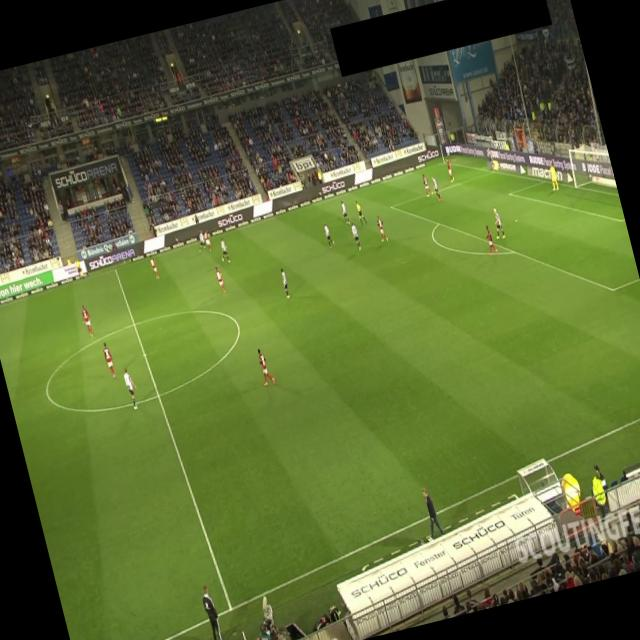goalkeeper: (546, 160, 560, 190)
player: (121, 365, 142, 410), (254, 346, 276, 386), (100, 340, 118, 380), (78, 303, 95, 338), (489, 206, 505, 239), (482, 224, 498, 255), (278, 266, 292, 298), (349, 220, 362, 252), (374, 214, 388, 243), (216, 236, 230, 264), (213, 264, 226, 294), (322, 222, 335, 248), (430, 174, 442, 202), (420, 172, 432, 198), (202, 228, 214, 253), (148, 256, 160, 280), (194, 230, 207, 252), (338, 198, 349, 224), (444, 158, 455, 182)
referee: (353, 198, 368, 226), (73, 256, 84, 280)
